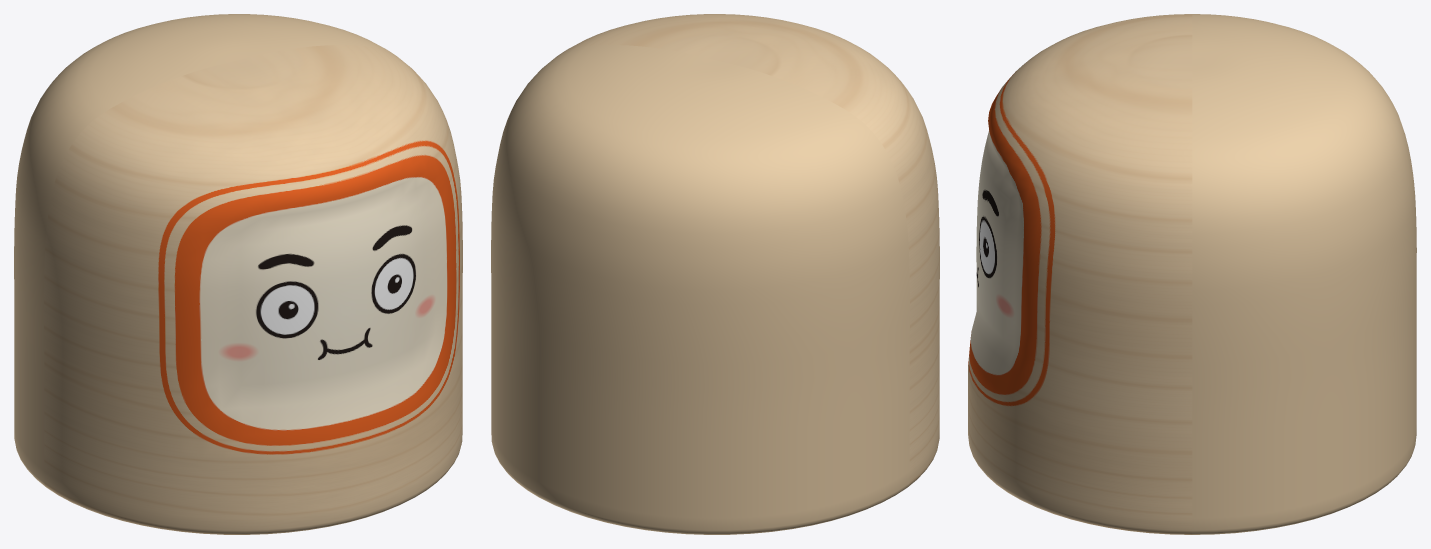
The model's file is kidaru.fbx.
3 views of the same model, side by side, from view 1: azimuth 30°, elevation 25°; view 2: azimuth 150°, elevation 25°; view 3: azimuth 270°, elevation 25° (orthographic).
Parts seen in each view (by area): view 1: kidaru; view 2: kidaru; view 3: kidaru.
Part boxes in pixels (x1=…): kidaru: x1=14, y1=14, x2=462, y2=534; kidaru: x1=491, y1=14, x2=939, y2=534; kidaru: x1=968, y1=14, x2=1416, y2=534.
Bounding box in the file's own units: 1 × 0.9425 × 1.
Materials: 1 (1 with a texture image).
